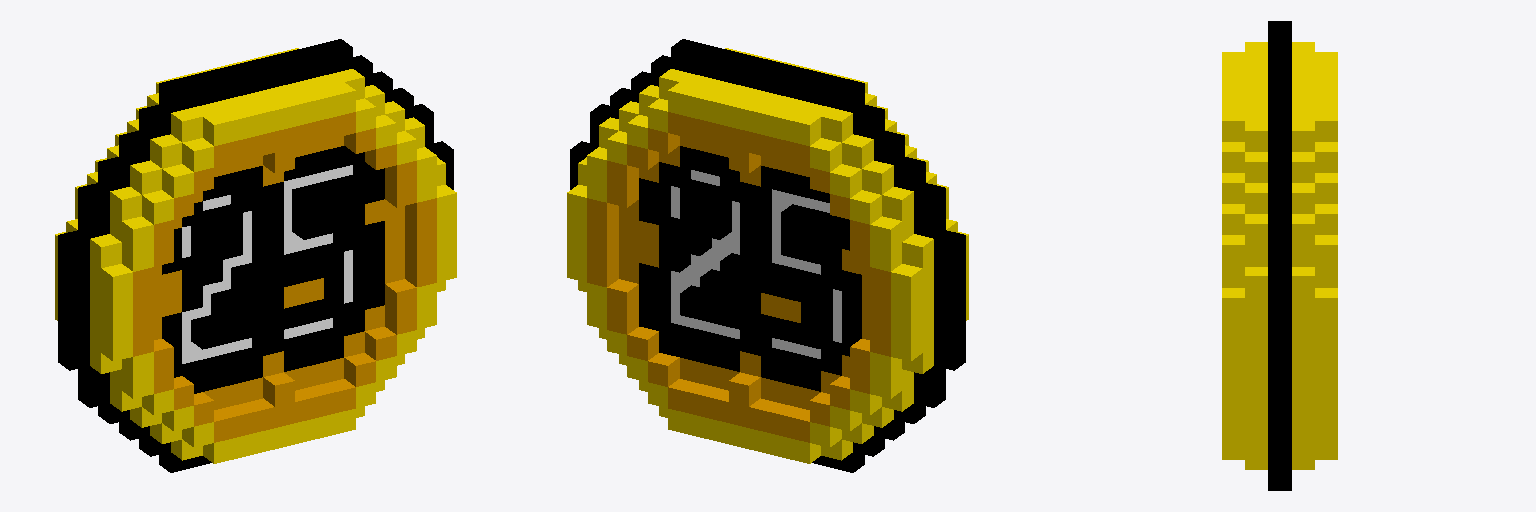
The picture shows the model from 3 angles: view 1: azimuth 30°, elevation 25°; view 2: azimuth 150°, elevation 25°; view 3: azimuth 270°, elevation 25°; orthographic projection.
Parts seen in each view (by area): view 1: object 1; view 2: object 1; view 3: object 1.
Boxes of the visible parts, <box> form: object 1: <box>55,39,456,472</box>; object 1: <box>567,39,968,472</box>; object 1: <box>1222,21,1337,490</box>.
Size of the model in its own units: 1.9 by 1.8 by 0.5.
1 materials, 1 textured.